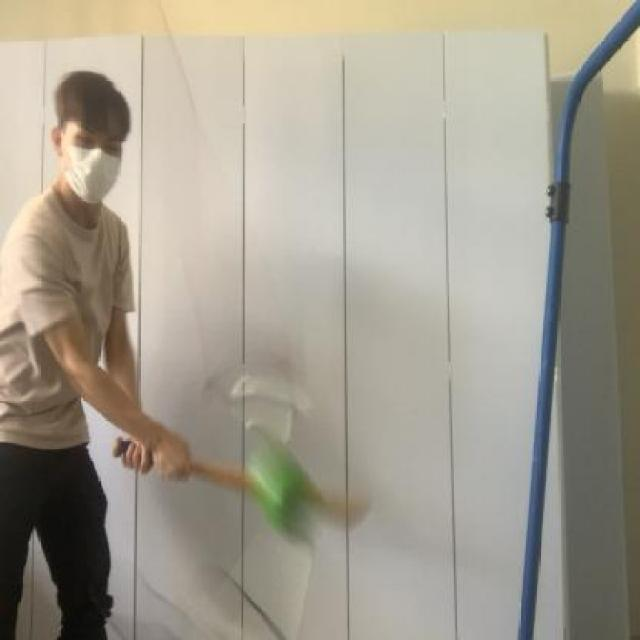baseball: (242, 426, 322, 546)
